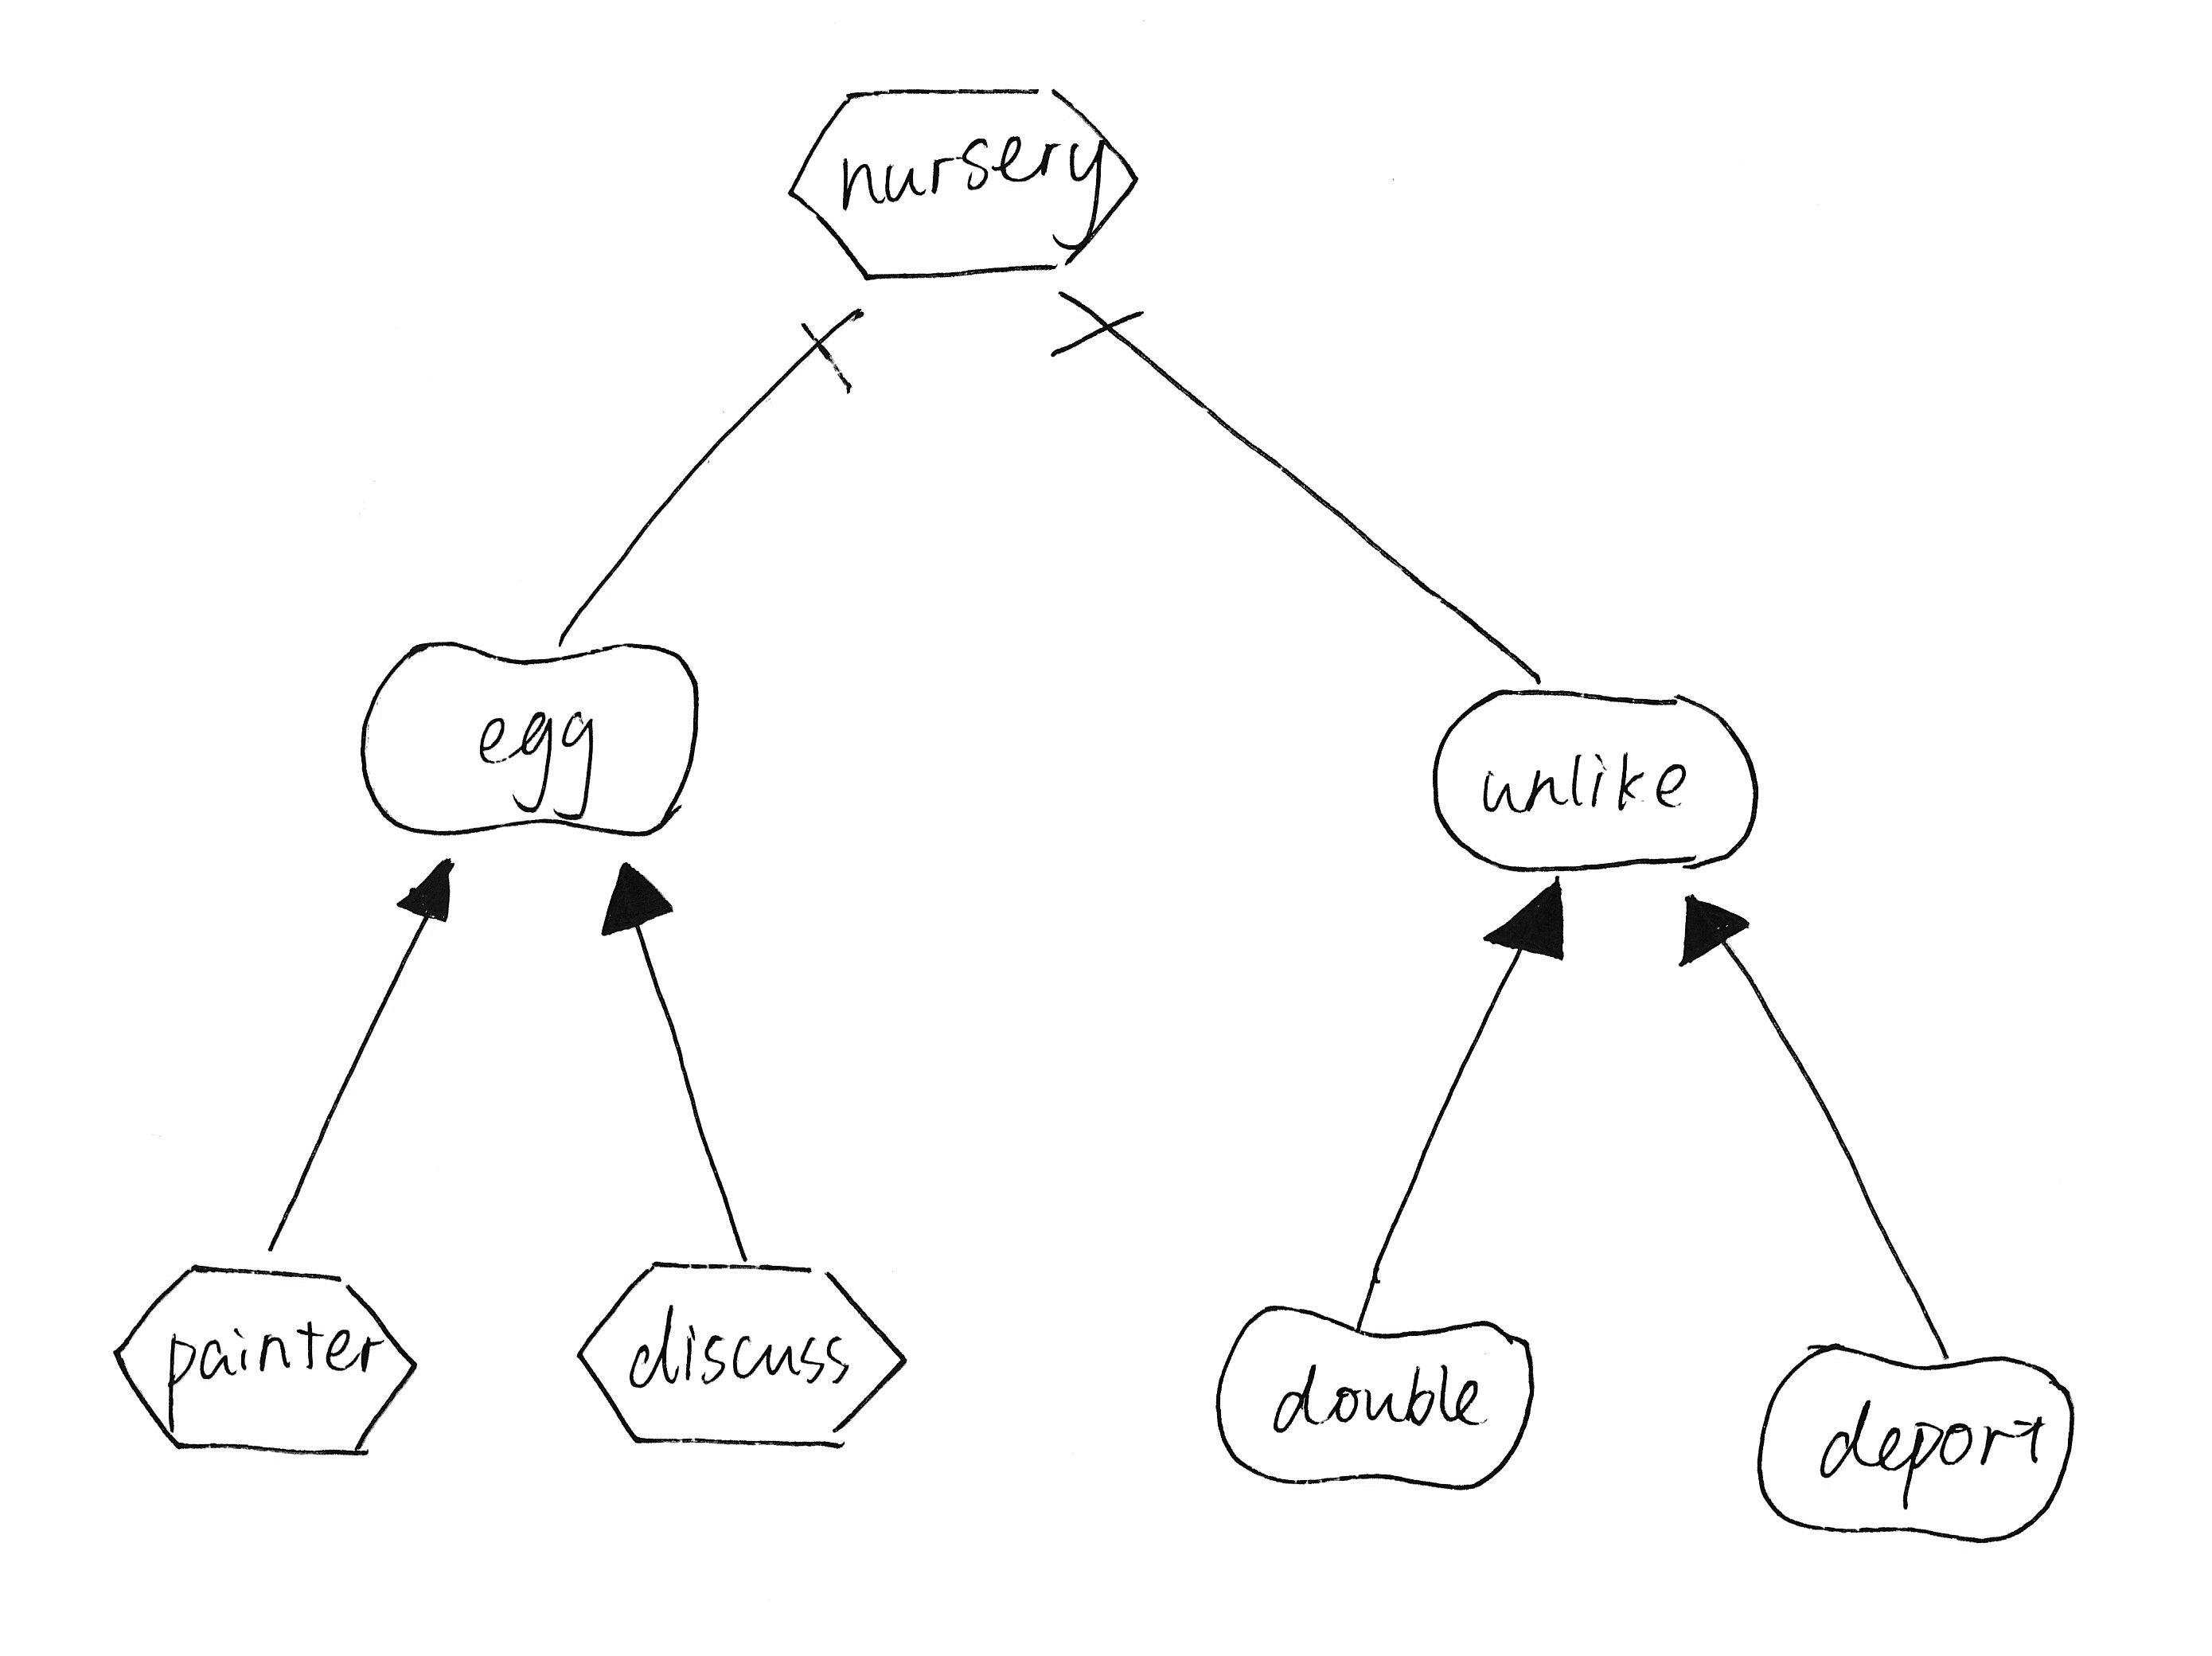and: (788, 289, 897, 416), (1043, 280, 1167, 372)
goal: (1409, 671, 1770, 891)
or: (1469, 866, 1589, 979), (1650, 880, 1760, 974), (583, 849, 680, 950), (370, 842, 466, 939)
quality: (337, 621, 722, 851), (1741, 1322, 2092, 1559), (1200, 1289, 1563, 1506)
task: (769, 61, 1148, 303), (553, 1242, 923, 1470), (87, 1247, 433, 1486)
